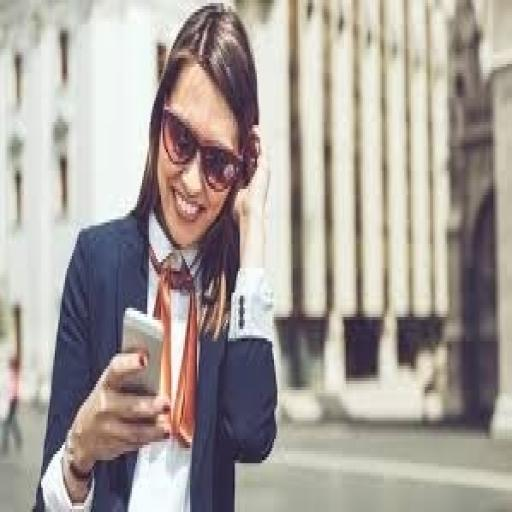texting: (31, 3, 281, 509)
